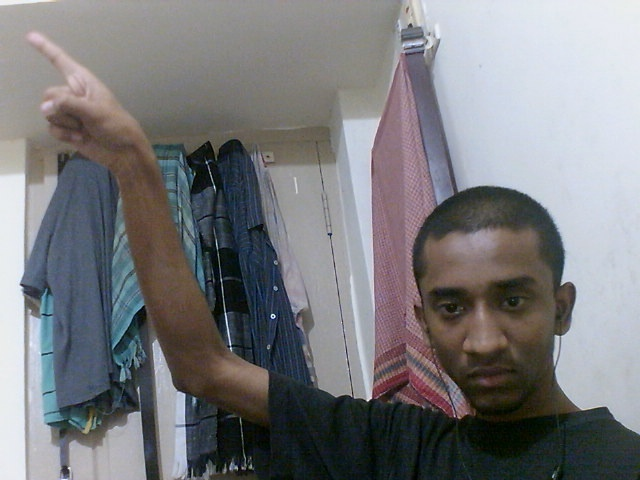hand: (24, 29, 157, 181)
